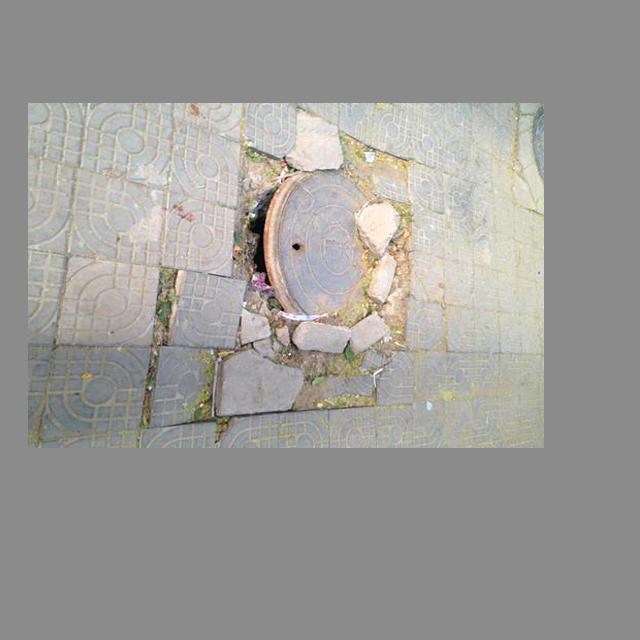circle: (213, 147, 415, 419)
